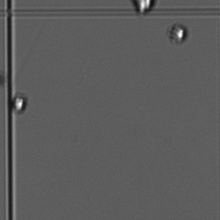Living Cell: (167, 23, 189, 44), (129, 1, 157, 17), (10, 92, 29, 113)
